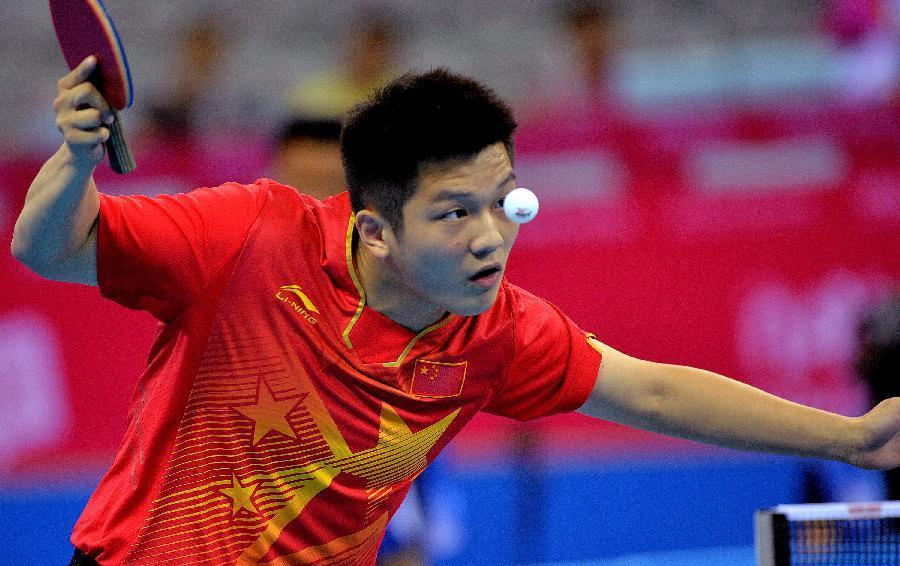ball: (499, 184, 543, 226)
